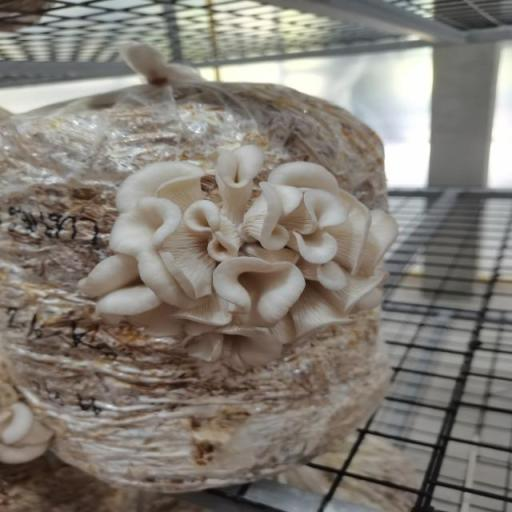White Oyster Mushroom: (64, 101, 423, 416)
